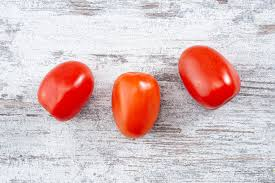tomato: (182, 46, 240, 111), (39, 57, 91, 118), (111, 73, 160, 136)
